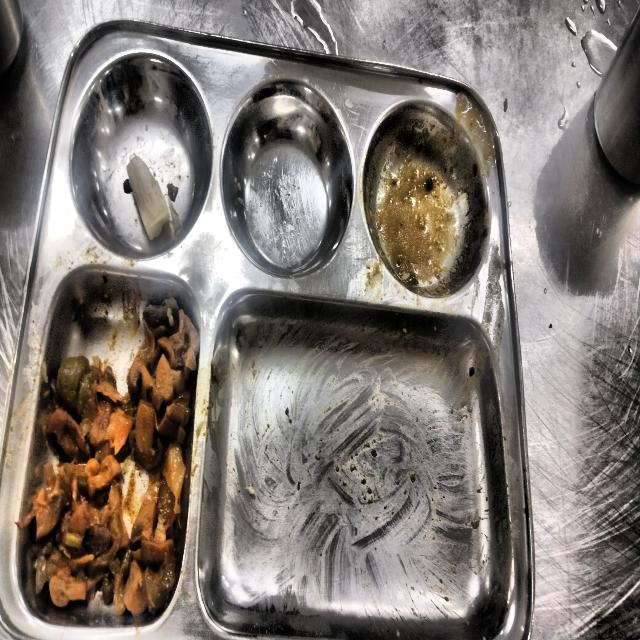Daal-pulse: (42, 297, 197, 614)
